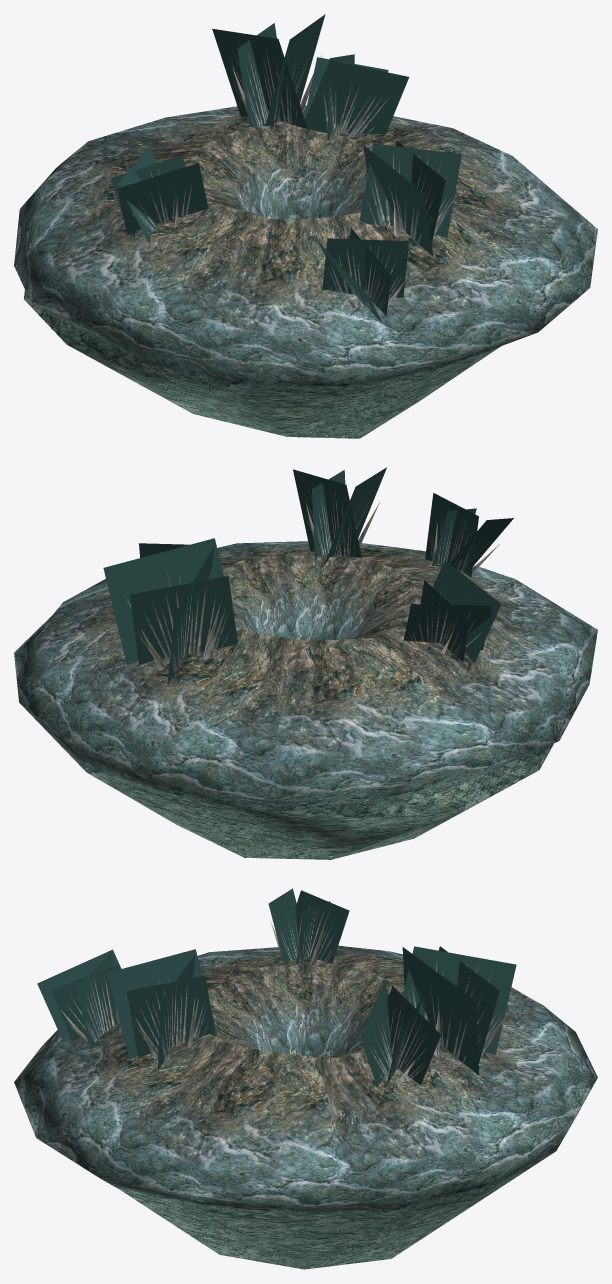
File: rock_crystl_mound_lrg_l0.fbx
3 views of the same model, one above another, from view 1: azimuth 30°, elevation 25°; view 2: azimuth 150°, elevation 25°; view 3: azimuth 270°, elevation 25° (orthographic). The views are drawn at different scales.
Parts seen in each view (by area): view 1: mesh_node; view 2: mesh_node; view 3: mesh_node.
Part boxes in pixels (x1,y1,x2,y2): mesh_node: (14,14,597,438); mesh_node: (14,467,597,859); mesh_node: (14,888,597,1269).
Bounding box in the file's own units: 29.36 × 16.5 × 29.99.
